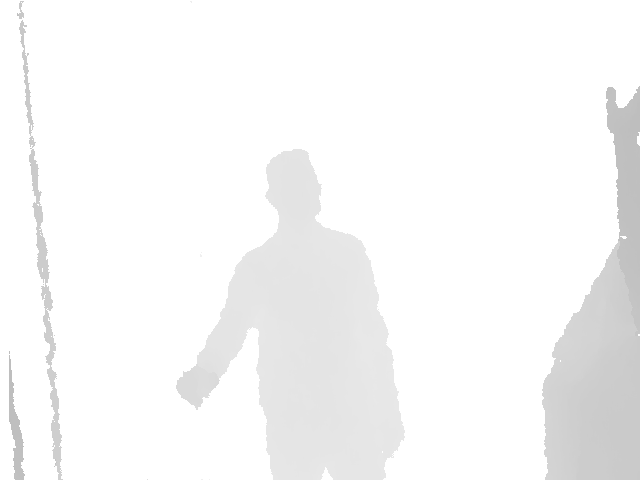hand: (606, 81, 640, 139)
head: (263, 147, 322, 226)
person: (174, 147, 407, 480), (540, 81, 640, 480)
